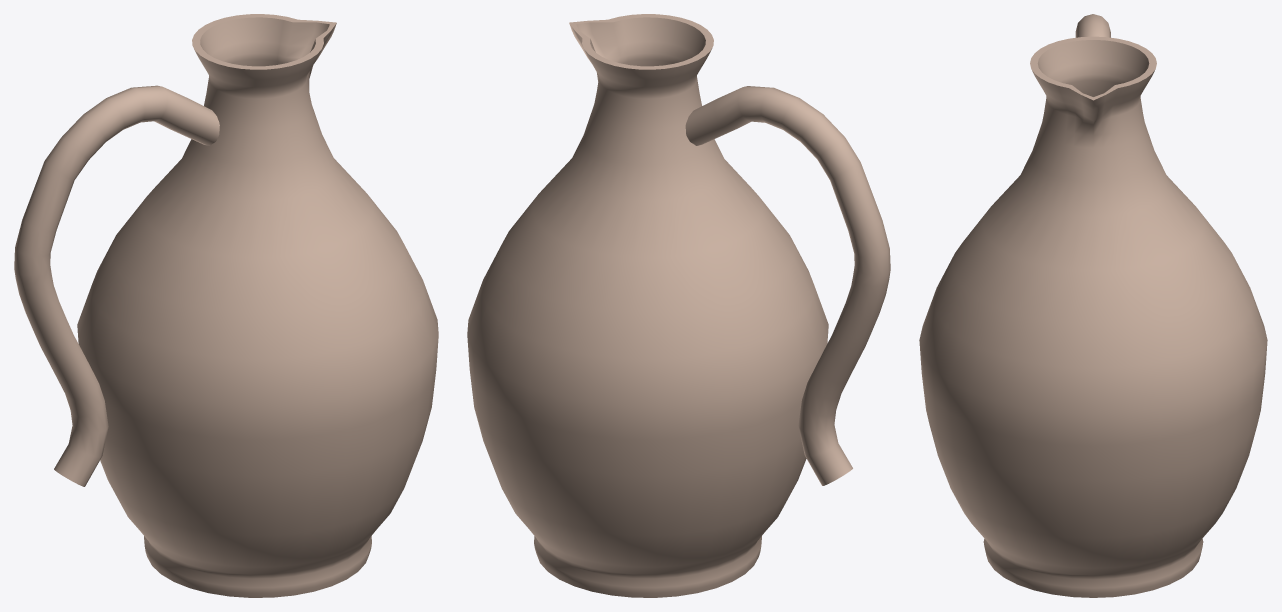
File: vaso 2.fbx
3 renders of one model, left to right at view 1: azimuth 30°, elevation 25°; view 2: azimuth 150°, elevation 25°; view 3: azimuth 270°, elevation 25°, orthographic. The views are drawn at different scales.
Visible parts, largest first — view 1: BézierCurve.006; view 2: BézierCurve.006; view 3: BézierCurve.006.
Boxes of the visible parts, x1,y1,x2,y2 form: BézierCurve.006: (14,14,438,597); BézierCurve.006: (467,14,890,597); BézierCurve.006: (919,14,1267,597).
Bounding box in the file's own units: 51.02 × 62.4 × 40.25.
